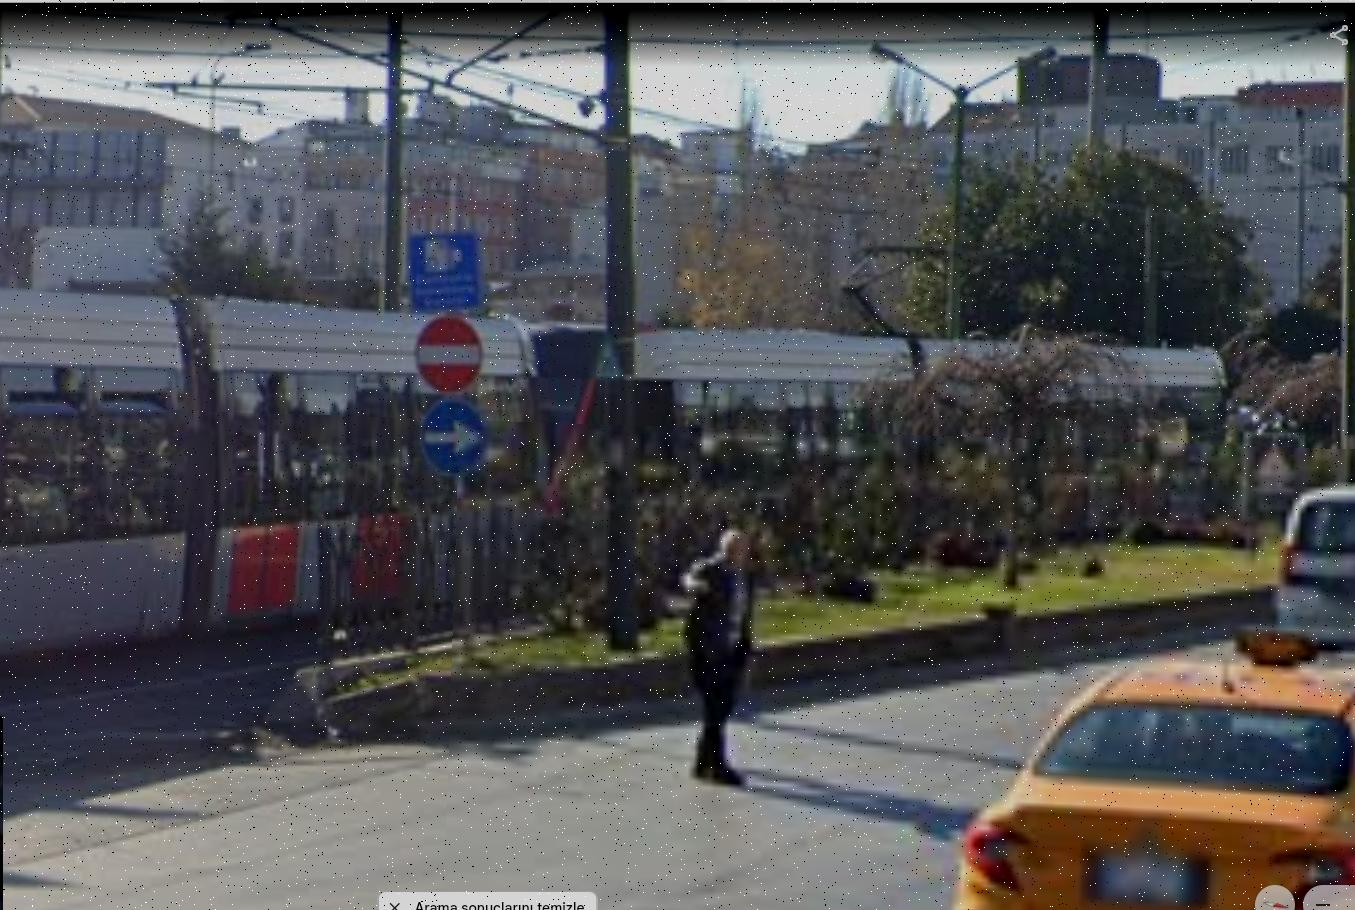turnleft: (422, 399, 487, 469)
